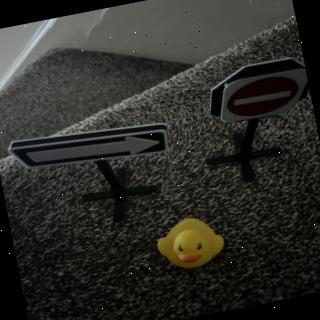duck_regular: (154, 214, 229, 276)
sign_noentry: (203, 55, 314, 129)
sign_oneway_right: (7, 113, 173, 183)
